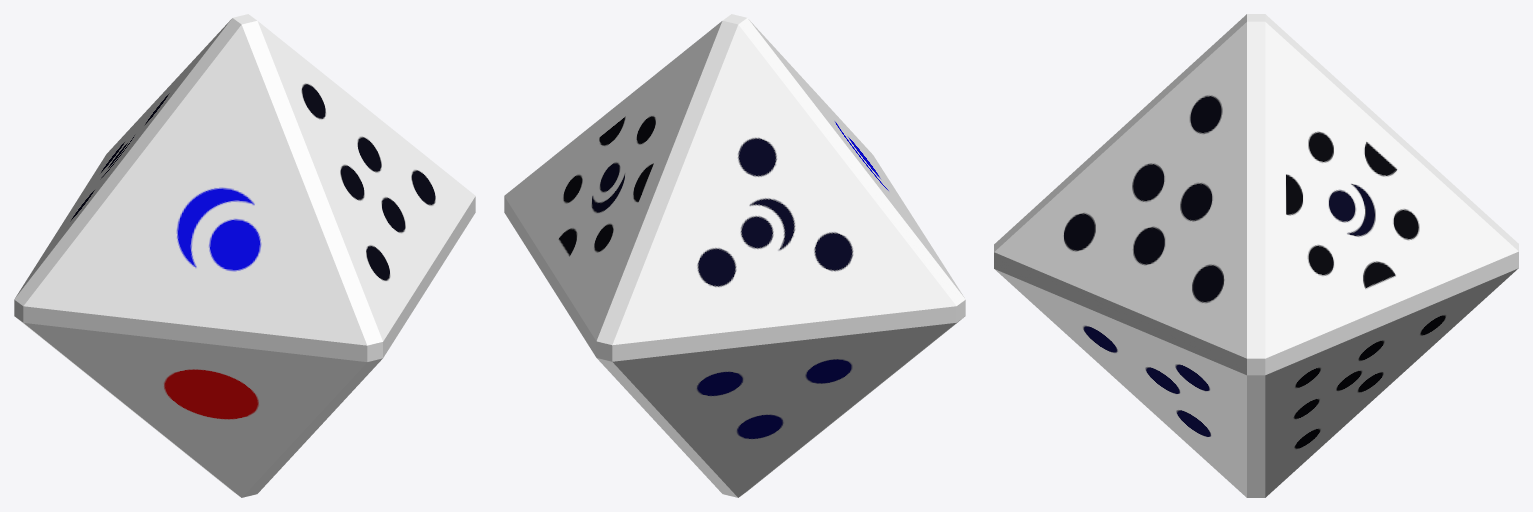
Rendered from Dice08.glb.
3 views of the same model, side by side, from view 1: azimuth 30°, elevation 25°; view 2: azimuth 150°, elevation 25°; view 3: azimuth 270°, elevation 25° (orthographic).
Parts seen in each view (by area): view 1: Cube; view 2: Cube; view 3: Cube.
Part boxes in pixels (x1,y1,x2,y2): Cube: [14, 14, 475, 497]; Cube: [504, 14, 965, 497]; Cube: [994, 14, 1518, 497].
Size of the model in its own units: 0.1869 by 0.1869 by 0.1867.
1 material, 1 textured.
